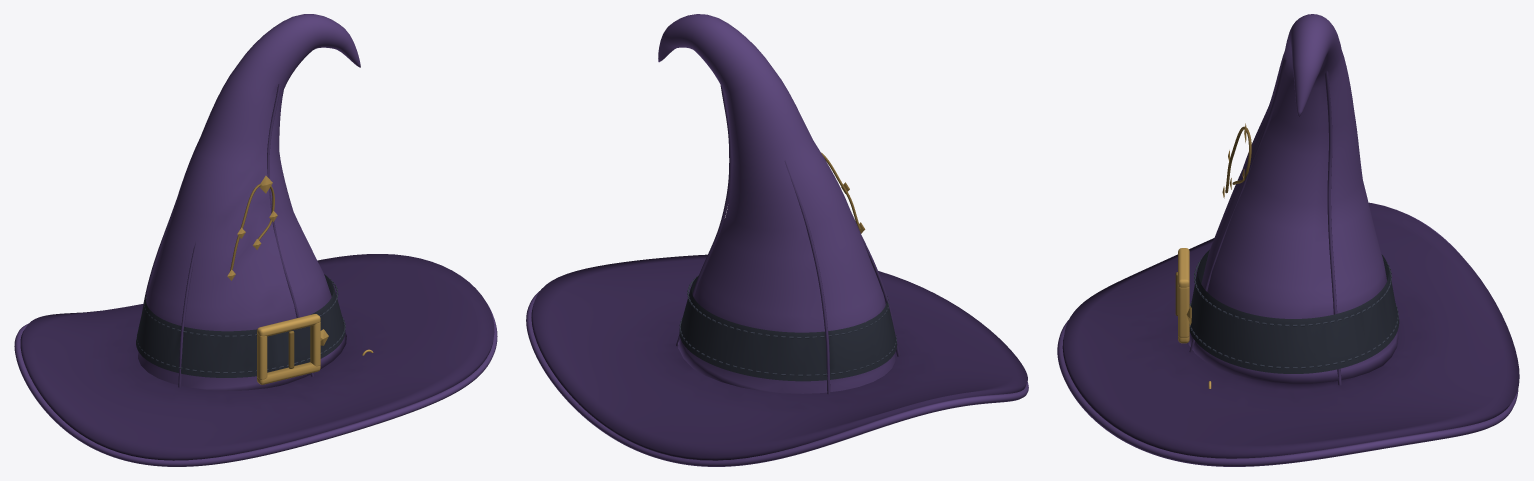
The picture shows the model from 3 angles, left to right: view 1: azimuth 30°, elevation 25°; view 2: azimuth 150°, elevation 25°; view 3: azimuth 270°, elevation 25°; orthographic projection. The views are drawn at different scales.
Visible parts, largest first — view 1: Tecido da aba · aba, Tecido da copa · copa, Couro da faixa · faixa, Metais e constelações · fivela, Tecido da copa · copa__gomos, Metais e constelações · fivela__baixo-relevo, Couro da faixa · faixa__costuras; view 2: Tecido da aba · aba, Tecido da copa · copa, Couro da faixa · faixa, Tecido da copa · copa__gomos, Couro da faixa · faixa__costuras; view 3: Tecido da aba · aba, Tecido da copa · copa, Couro da faixa · faixa, Tecido da copa · copa__gomos, Metais e constelações · fivela, Couro da faixa · faixa__costuras, Metais e constelações · fivela__baixo-relevo.
Part boxes in pixels (bbox=[...]): Tecido da aba · aba: bbox=[20, 254, 494, 460]; Tecido da copa · copa: bbox=[14, 14, 497, 466]; Couro da faixa · faixa: bbox=[136, 274, 345, 377]; Metais e constelações · fivela: bbox=[227, 175, 373, 384]; Tecido da copa · copa__gomos: bbox=[142, 84, 313, 387]; Metais e constelações · fivela__baixo-relevo: bbox=[230, 184, 294, 368]; Couro da faixa · faixa__costuras: bbox=[136, 278, 345, 373]; Tecido da aba · aba: bbox=[531, 254, 1027, 460]; Tecido da copa · copa: bbox=[526, 14, 1028, 466]; Couro da faixa · faixa: bbox=[679, 275, 897, 381]; Tecido da copa · copa__gomos: bbox=[676, 85, 900, 394]; Couro da faixa · faixa__costuras: bbox=[679, 276, 896, 376]; Tecido da aba · aba: bbox=[1062, 202, 1519, 458]; Tecido da copa · copa: bbox=[1057, 14, 1518, 466]; Couro da faixa · faixa: bbox=[1189, 249, 1399, 373]; Tecido da copa · copa__gomos: bbox=[1189, 57, 1341, 385]; Metais e constelações · fivela: bbox=[1178, 123, 1246, 388]; Couro da faixa · faixa__costuras: bbox=[1189, 258, 1398, 368]; Metais e constelações · fivela__baixo-relevo: bbox=[1175, 126, 1251, 316].
Bounding box in the file's own units: 3.21 × 2.44 × 2.56.
